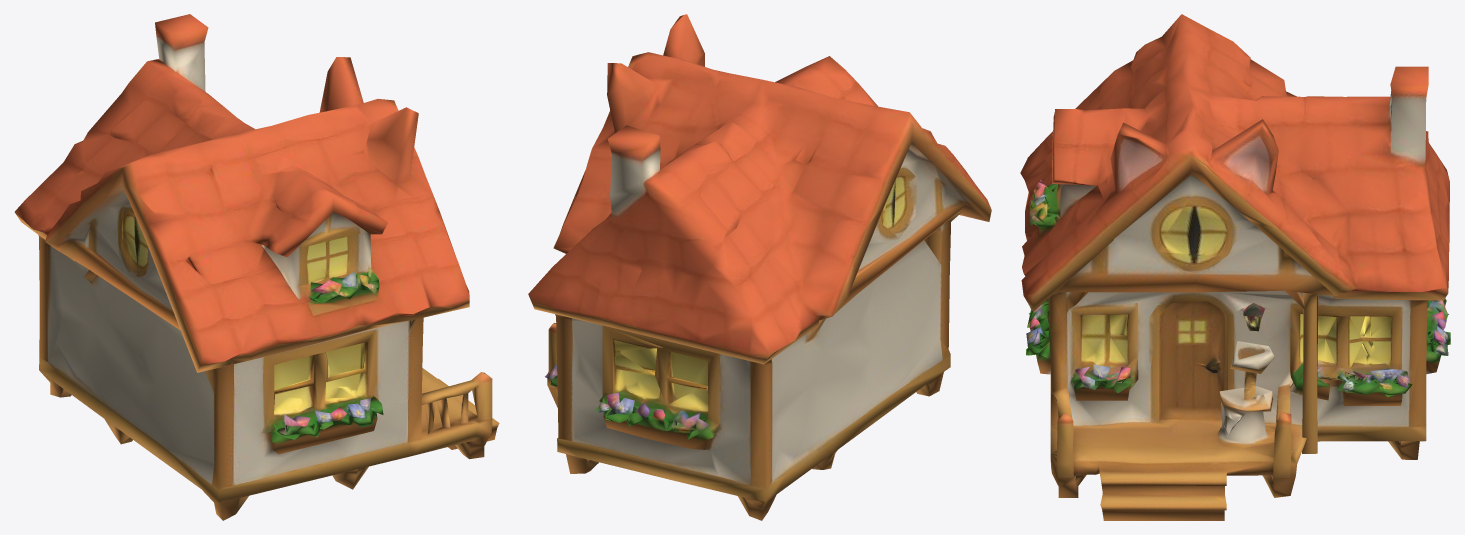
Rendered from sanctuary.glb.
3 renders of one model, left to right at view 1: azimuth 30°, elevation 25°; view 2: azimuth 150°, elevation 25°; view 3: azimuth 270°, elevation 25°, orthographic. The views are drawn at different scales.
Visible parts, largest first — view 1: tripo_node_870630bc-9abb-4002-ba69-02cebae77327; view 2: tripo_node_870630bc-9abb-4002-ba69-02cebae77327; view 3: tripo_node_870630bc-9abb-4002-ba69-02cebae77327.
Boxes of the visible parts, x1,y1,x2,y2 form: tripo_node_870630bc-9abb-4002-ba69-02cebae77327: (14, 14, 499, 520); tripo_node_870630bc-9abb-4002-ba69-02cebae77327: (528, 14, 991, 520); tripo_node_870630bc-9abb-4002-ba69-02cebae77327: (1020, 14, 1450, 520).
Size of the model in its own units: 0.9319 by 0.9267 by 1.
1 material, 1 textured.
